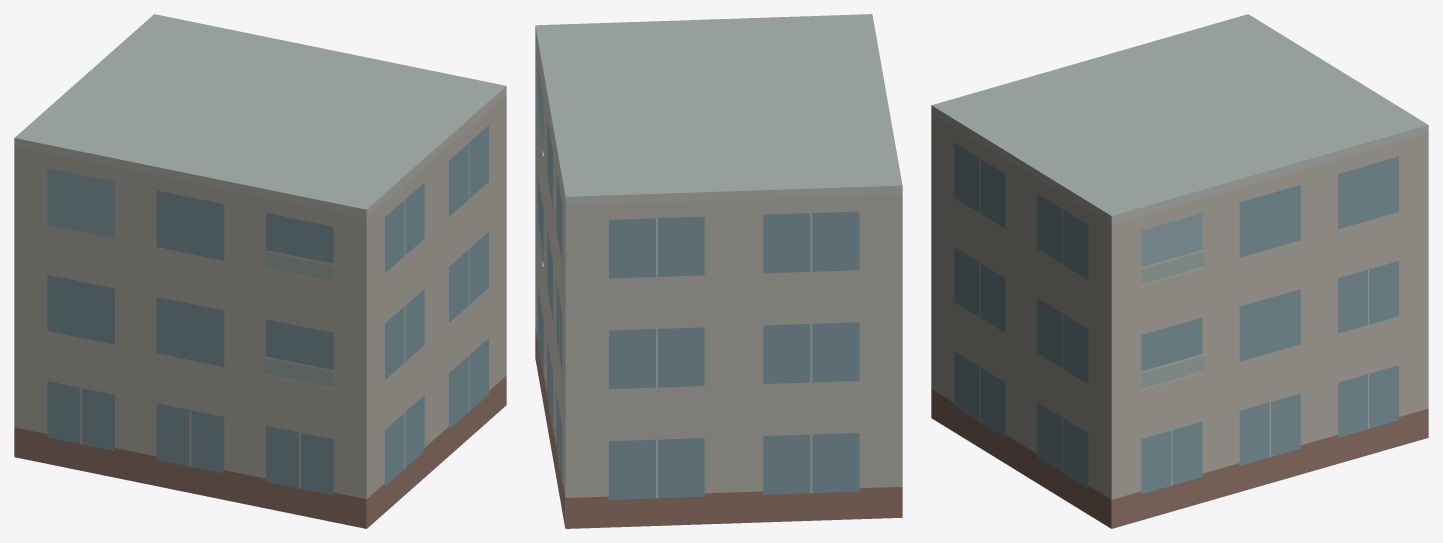
Rendered from survey-upis-32826915.glb.
3 views of the same model, side by side, from view 1: azimuth 30°, elevation 25°; view 2: azimuth 150°, elevation 25°; view 3: azimuth 270°, elevation 25° (orthographic). The views are drawn at different scales.
Visible parts, largest first — view 1: survey-upis-32826915.tmp; view 2: survey-upis-32826915.tmp; view 3: survey-upis-32826915.tmp.
Part boxes in pixels (box(x1,y1,x2,y2)): survey-upis-32826915.tmp: box(14, 14, 506, 528); survey-upis-32826915.tmp: box(535, 14, 902, 528); survey-upis-32826915.tmp: box(931, 14, 1428, 528).
Bounding box in the file's own units: 12.69 × 9.15 × 13.19.
